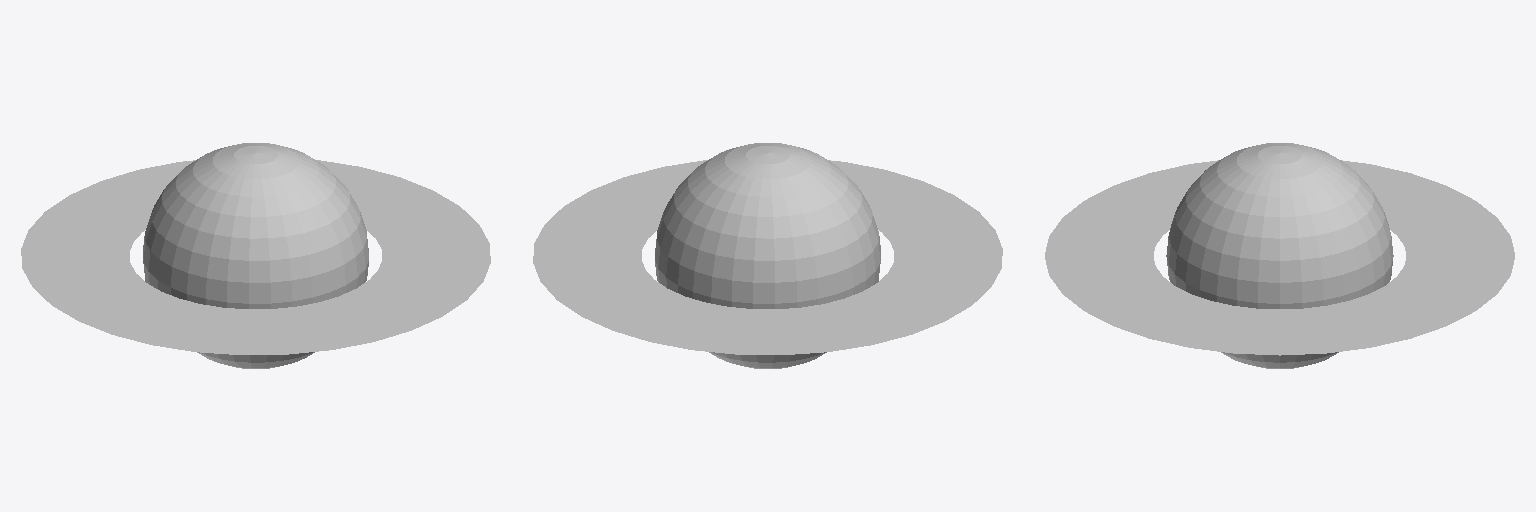
The model's file is saturn.obj.
3 views of the same model, side by side, from view 1: azimuth 30°, elevation 25°; view 2: azimuth 150°, elevation 25°; view 3: azimuth 270°, elevation 25° (orthographic).
Parts seen in each view (by area): view 1: Circle, Sphere; view 2: Circle, Sphere; view 3: Circle, Sphere.
Part boxes in pixels (x1,y1,x2,y2): Circle: (21,160,490,354); Sphere: (143,143,368,368); Circle: (533,160,1002,354); Sphere: (655,143,880,368); Circle: (1045,160,1514,355); Sphere: (1166,143,1393,368).
Bounding box in the file's own units: 241 × 116 × 241.